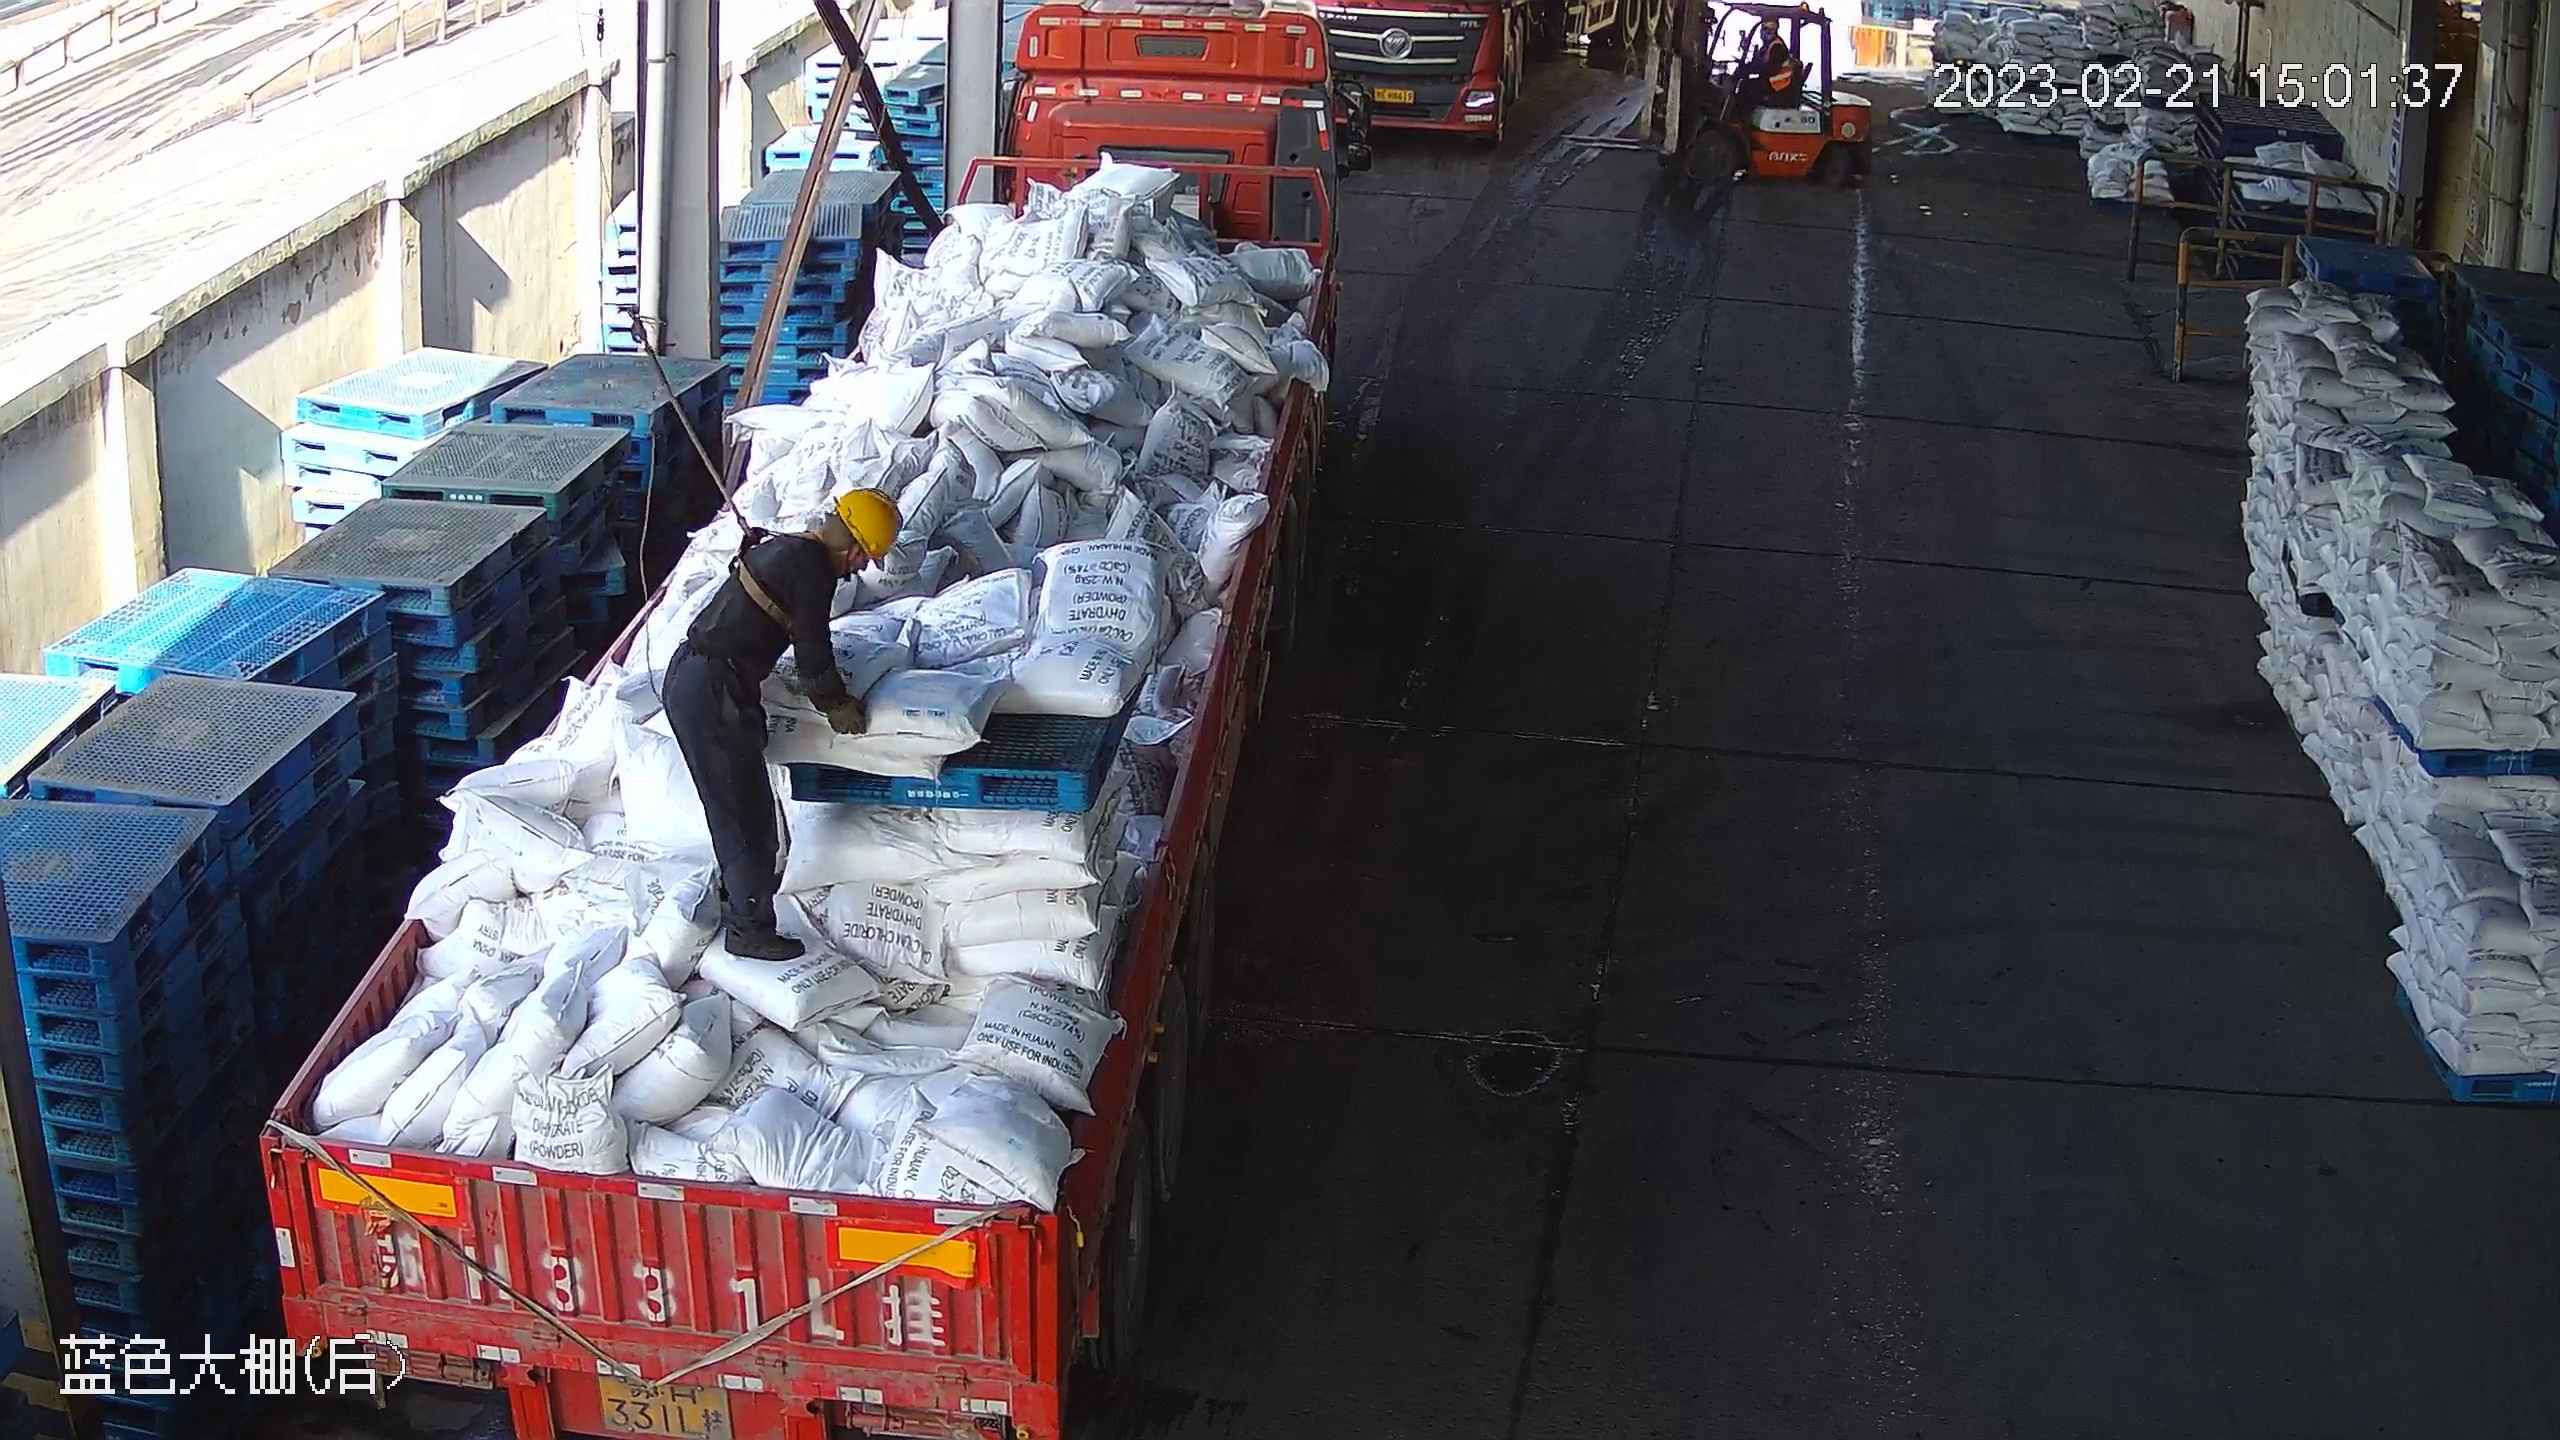belt: (723, 507, 812, 625)
head: (740, 486, 899, 621)
helmet: (832, 488, 911, 575)
people: (660, 478, 898, 953)
truck: (248, 1, 1359, 1440), (1316, 1, 1666, 151)
